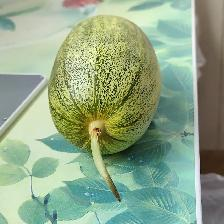gua: (65, 27, 145, 145)
